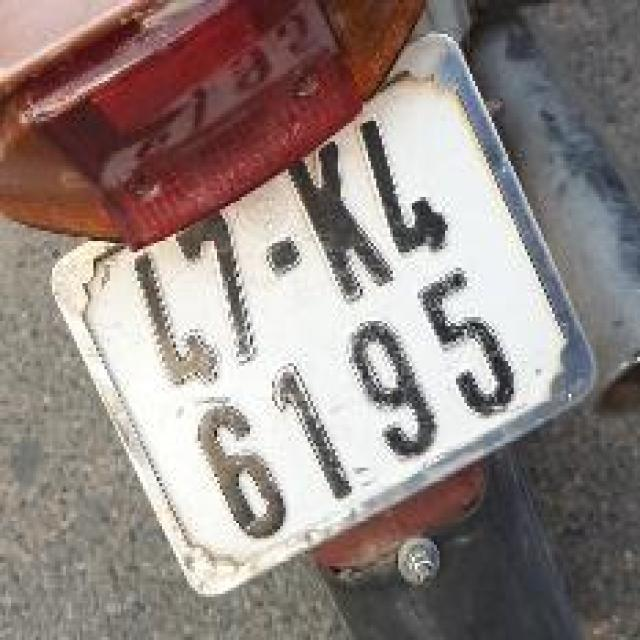1: (254, 346, 367, 510)
4: (346, 96, 461, 286), (120, 235, 231, 405)
5: (405, 252, 530, 431)
6: (177, 384, 304, 554)
7: (162, 199, 281, 386)
9: (333, 304, 449, 474)
K: (272, 125, 403, 319)
